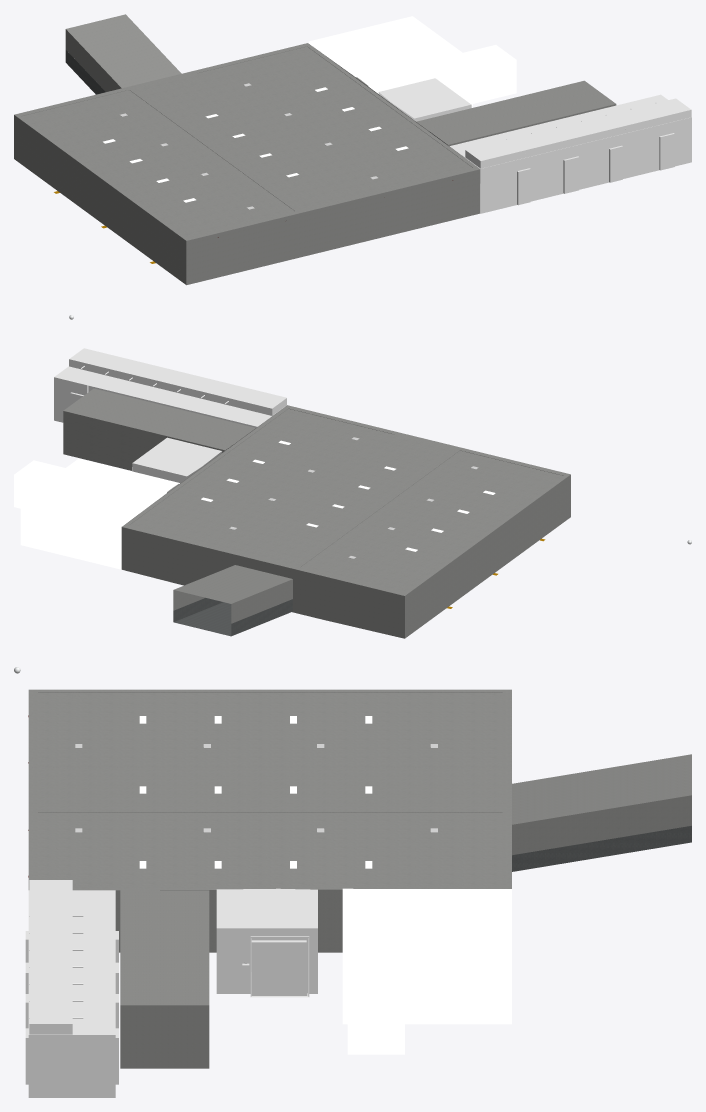
File: garage.glb
3 renders of one model, top to bottom at view 1: azimuth 30°, elevation 25°; view 2: azimuth 150°, elevation 25°; view 3: azimuth 270°, elevation 25°, orthographic. The views are drawn at different scales.
Parts seen in each view (by area): view 1: Object_4, Object_5, Object_44, Object_104; view 2: Object_4, Object_44, Object_5, Object_104; view 3: Object_4, Object_5, Object_44, Object_104, Object_20.
Boxes of the visible parts, x1,y1,x2,y2 form: Object_4: (14, 14, 616, 285); Object_5: (54, 77, 691, 263); Object_44: (308, 16, 516, 106); Object_104: (65, 50, 105, 94); Object_4: (63, 388, 570, 638); Object_44: (14, 458, 179, 569); Object_5: (54, 348, 545, 608); Object_104: (173, 598, 292, 636); Object_4: (28, 689, 691, 1068); Object_5: (25, 715, 437, 1097); Object_44: (342, 888, 511, 1054); Object_104: (512, 825, 691, 871); Object_20: (139, 716, 372, 868).
Bounding box in the file's own units: 296 × 25.71 × 198.
9 materials, 9 textured.
